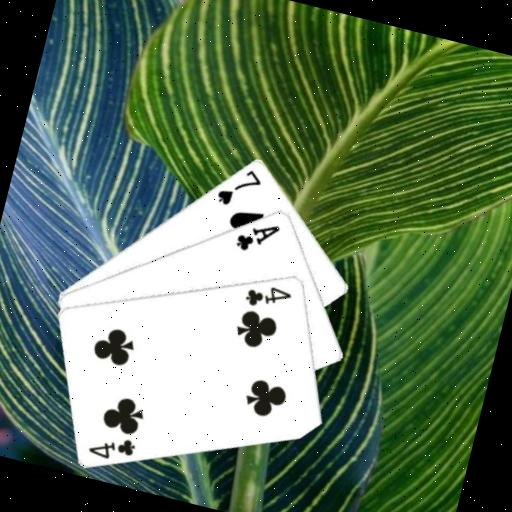4C: (84, 426, 140, 467), (241, 277, 295, 317)
7S: (212, 159, 266, 214)
AC: (231, 213, 284, 260)
